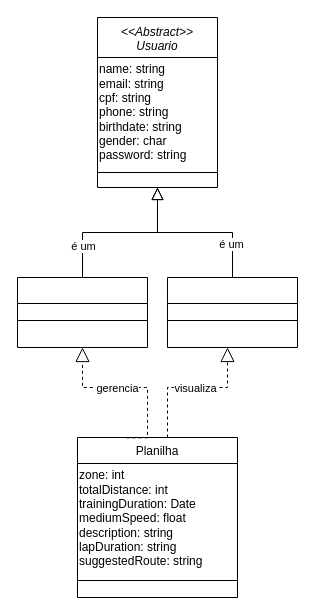
Image size: 315x615. Some labels were removed from this diagram. The centre of each missing label's shape, as x and y in pixels:
Atleta: (232,312)
Treinador: (82,312)
